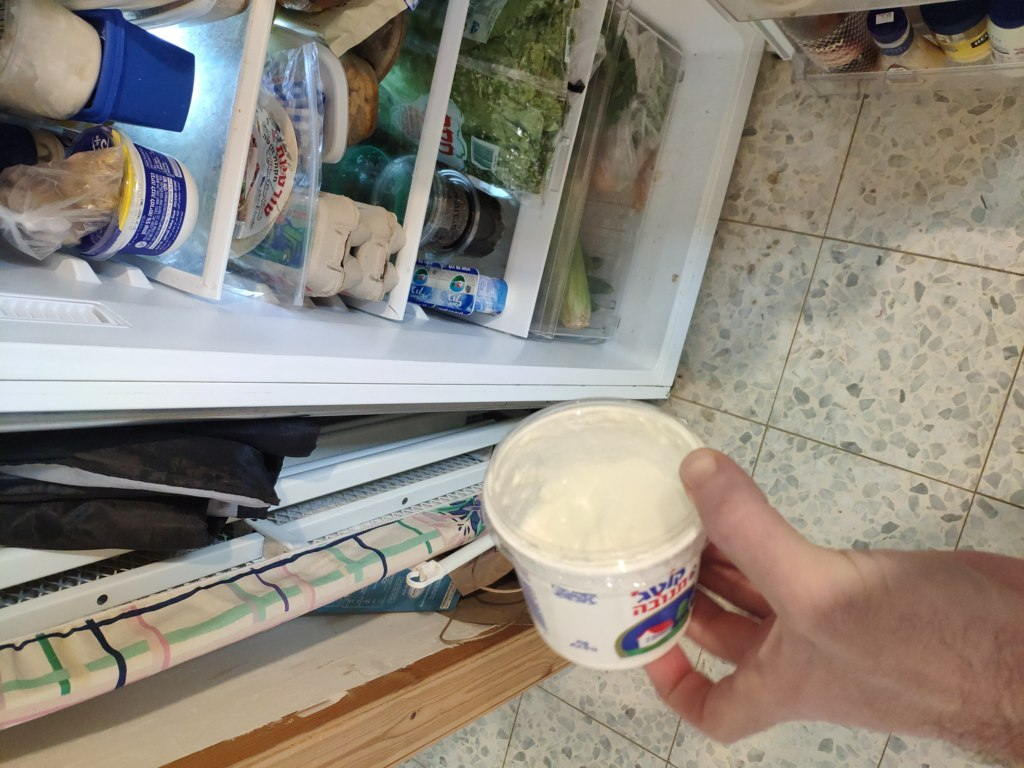Cotage: (503, 401, 711, 659)
